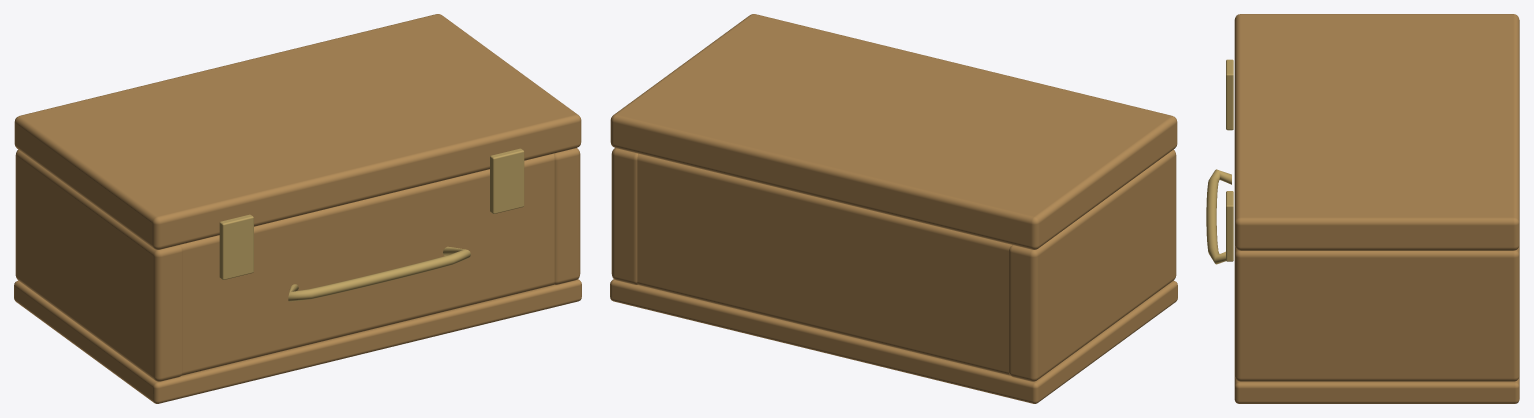
The model's file is abandoned-puppet-theatre-and-prop-vault-padded-puppet--9aee3de5__31088.glb.
3 views of the same model, side by side, from view 1: azimuth 30°, elevation 25°; view 2: azimuth 150°, elevation 25°; view 3: azimuth 270°, elevation 25° (orthographic).
Visible parts, largest first — view 1: padded-puppet-transport-chest; view 2: padded-puppet-transport-chest; view 3: padded-puppet-transport-chest.
Part boxes in pixels (<box>): padded-puppet-transport-chest: <box>14,14,581,403</box>; padded-puppet-transport-chest: <box>610,14,1177,403</box>; padded-puppet-transport-chest: <box>1206,14,1519,403</box>.
Size of the model in its own units: 0.95 by 0.395 by 0.6044.
